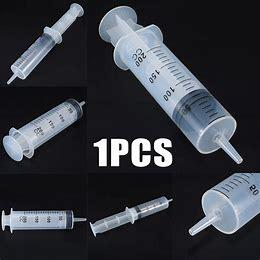Syringe: (92, 7, 246, 164), (5, 3, 86, 84), (2, 96, 90, 163), (2, 202, 88, 241)
